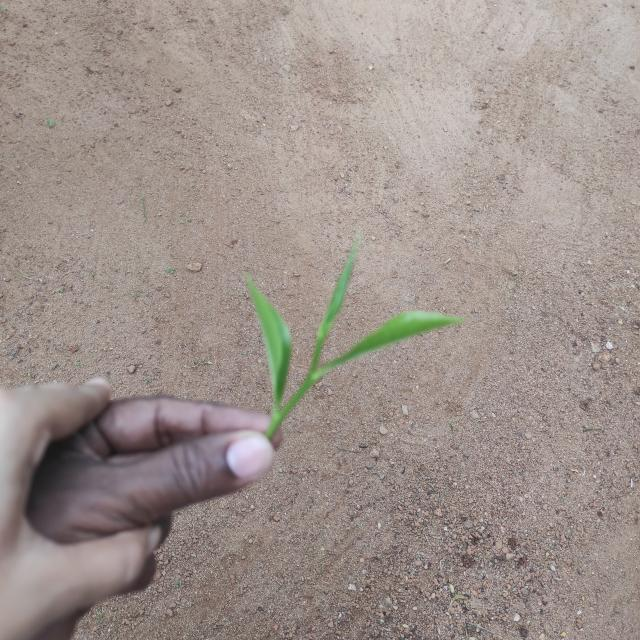unopened_leaf: (307, 232, 365, 364)
